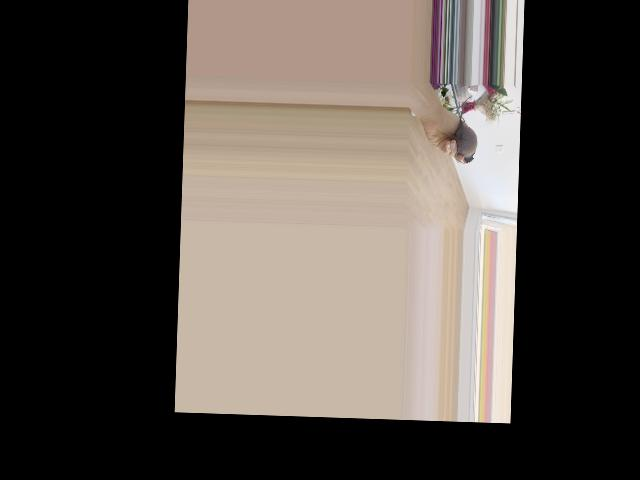beet: (453, 96, 478, 164)
